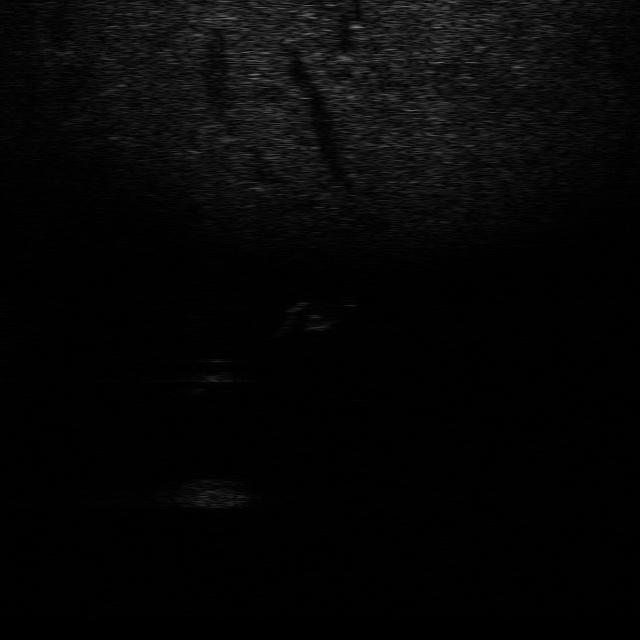ball: (180, 355, 236, 387)
circle cage: (164, 473, 252, 512)
human body: (275, 295, 361, 341)
